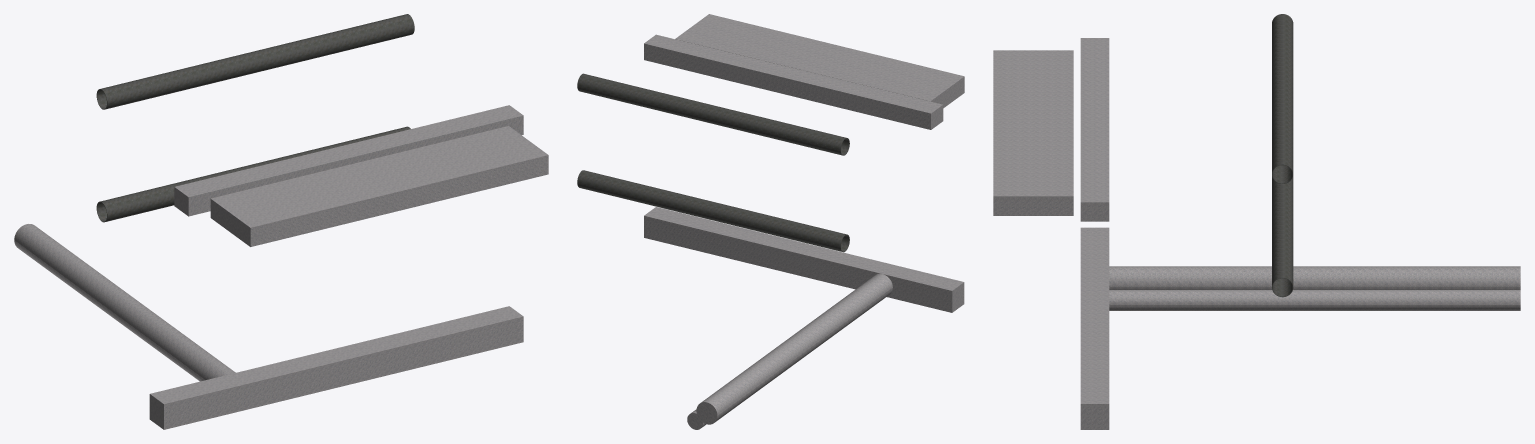
3 views of the same model, side by side, from view 1: azimuth 30°, elevation 25°; view 2: azimuth 150°, elevation 25°; view 3: azimuth 270°, elevation 25° (orthographic). The views are drawn at different scales.
Parts seen in each view (by area): view 1: 0_1_3_3_1; view 2: 0_1_3_3_1; view 3: 0_1_3_3_1.
Part boxes in pixels (x1,y1,x2,y2): 0_1_3_3_1: (14, 14, 548, 429); 0_1_3_3_1: (577, 14, 964, 429); 0_1_3_3_1: (993, 14, 1520, 429).
Bounding box in the file's own units: 11.7 × 8.3 × 14.78.
7 materials, 7 textured.
